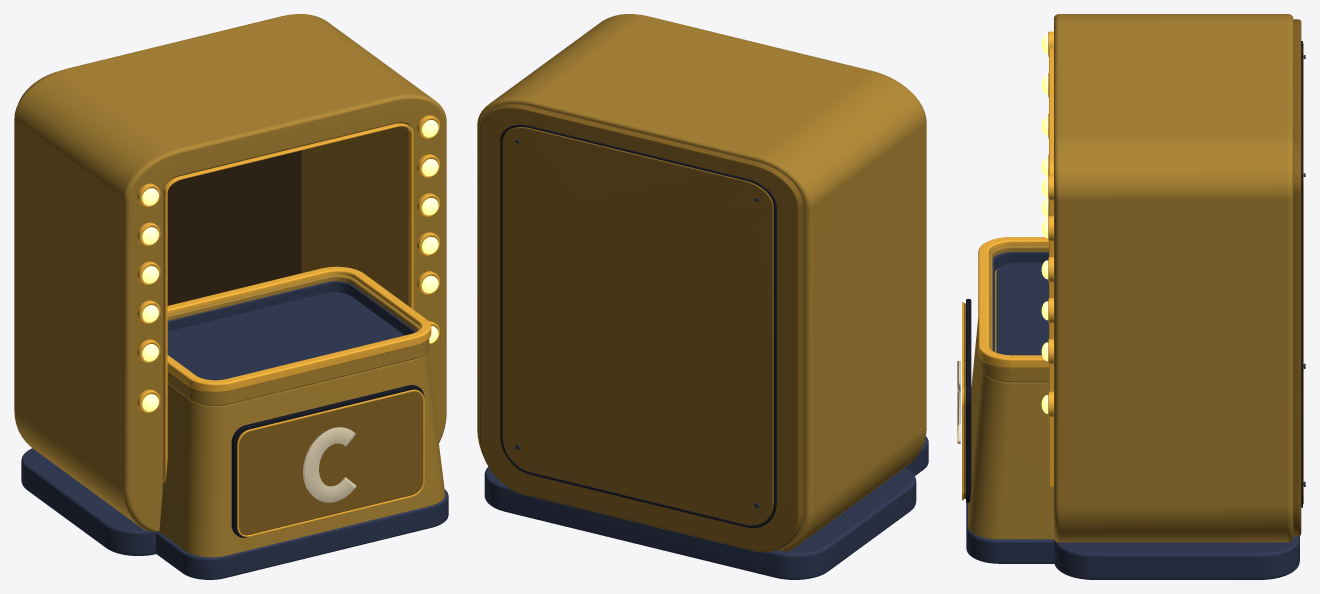
The model's file is BoothCabinet_C.glb.
3 views of the same model, side by side, from view 1: azimuth 30°, elevation 25°; view 2: azimuth 150°, elevation 25°; view 3: azimuth 270°, elevation 25° (orthographic). The views are drawn at different scales.
Parts seen in each view (by area): view 1: RedRoundedCabinetShell, TrayTaperedRedBody, TrayRedAnswerPlaque, DarkRecessBack, TrayDepositFloor, TrayBlueGrayFoot, TrayGoldUpperLip, BlueGrayCabinetPlinth, TrayRaisedRedWall, GoldInnerApertureLining, TrayInnerBlueLiner, RaisedAnswerC (+2 smaller); view 2: RedRearServicePanel, RedRoundedCabinetShell, RearOuterCover, BlueGrayCabinetPlinth, RearServicePanelSeam; view 3: RedRoundedCabinetShell, TrayTaperedRedBody, BlueGrayCabinetPlinth, RearOuterCover, TrayDepositFloor, TrayGoldUpperLip, TrayBlueGrayFoot, TrayRaisedRedWall, GoldInnerApertureLining, TrayFrontPlaqueShadow, RearServicePanelSeam, TrayInnerBlueLiner (+1 smaller).
Boxes of the visible parts, x1,y1,x2,y2 form: RedRoundedCabinetShell: (14, 14, 446, 531); TrayTaperedRedBody: (159, 352, 445, 557); TrayRedAnswerPlaque: (237, 391, 422, 535); DarkRecessBack: (167, 150, 301, 305); TrayDepositFloor: (167, 292, 404, 380); TrayBlueGrayFoot: (156, 489, 448, 579); TrayGoldUpperLip: (167, 266, 431, 392); BlueGrayCabinetPlinth: (21, 448, 159, 555); TrayRaisedRedWall: (167, 274, 429, 405); GoldInnerApertureLining: (163, 123, 413, 483); TrayInnerBlueLiner: (167, 281, 415, 335); RaisedAnswerC: (303, 427, 356, 502); RedRearServicePanel: (502, 127, 773, 525); RedRoundedCabinetShell: (477, 14, 926, 551); RearOuterCover: (479, 104, 802, 552); BlueGrayCabinetPlinth: (484, 467, 916, 579); RearServicePanelSeam: (500, 124, 776, 528); RedRoundedCabinetShell: (1054, 14, 1293, 542); TrayTaperedRedBody: (968, 269, 1053, 539); BlueGrayCabinetPlinth: (1054, 536, 1299, 579); RearOuterCover: (1293, 19, 1301, 536); TrayDepositFloor: (996, 262, 1048, 355); TrayGoldUpperLip: (978, 237, 1048, 368); TrayBlueGrayFoot: (966, 503, 1054, 563); TrayRaisedRedWall: (980, 245, 1048, 382); GoldInnerApertureLining: (1049, 47, 1053, 486); TrayFrontPlaqueShadow: (966, 299, 971, 502); RearServicePanelSeam: (1301, 41, 1302, 507); TrayInnerBlueLiner: (992, 252, 1048, 351).
Size of the model in its own units: 1.82 by 2.15 by 1.6.
8 materials, 8 textured.
